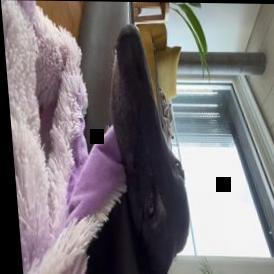nasal_discharge: (103, 35, 130, 59)
